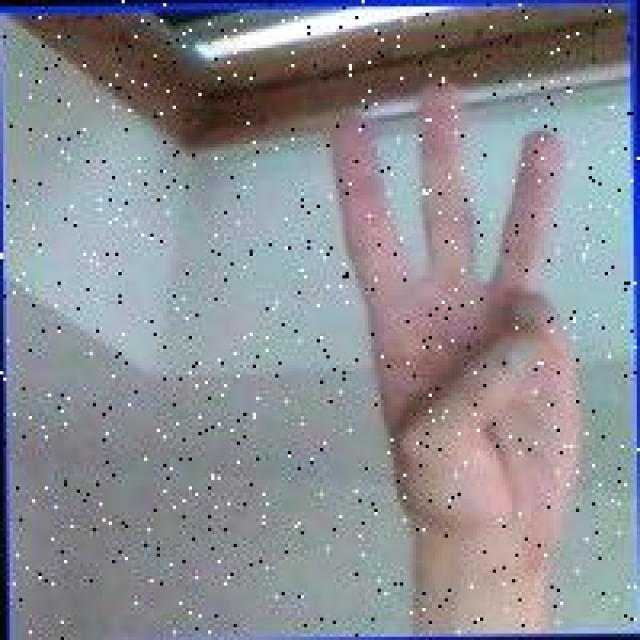W: (320, 70, 586, 548)
